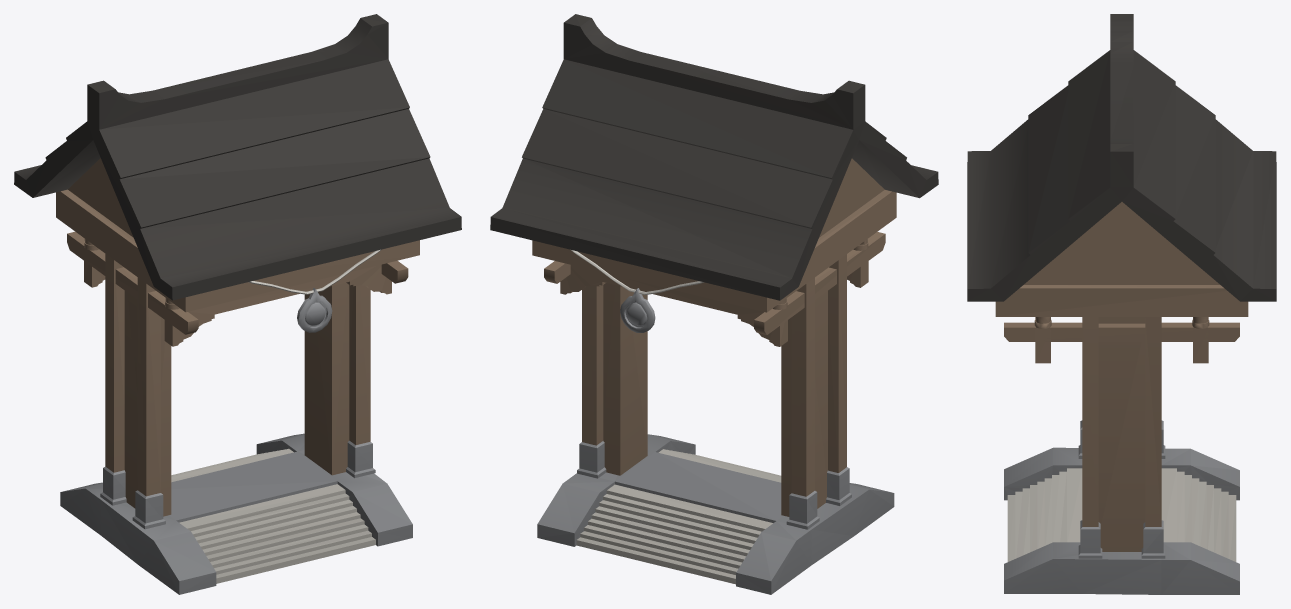
Rendered from jp_gate.glb.
3 views of the same model, side by side, from view 1: azimuth 30°, elevation 25°; view 2: azimuth 150°, elevation 25°; view 3: azimuth 270°, elevation 25° (orthographic). The views are drawn at different scales.
Visible parts, largest first — view 1: jp_gate; view 2: jp_gate; view 3: jp_gate.
Boxes of the visible parts, x1=… form: jp_gate: x1=14, y1=14, x2=461, y2=594; jp_gate: x1=490, y1=14, x2=938, y2=594; jp_gate: x1=967, y1=14, x2=1276, y2=594.
Size of the model in its own units: 4.14 by 6.4 by 3.92.
